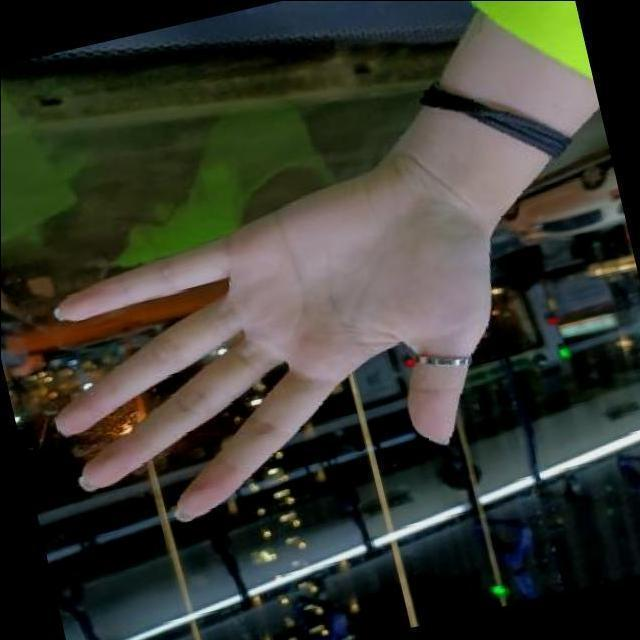hand: (1, 132, 572, 577)
